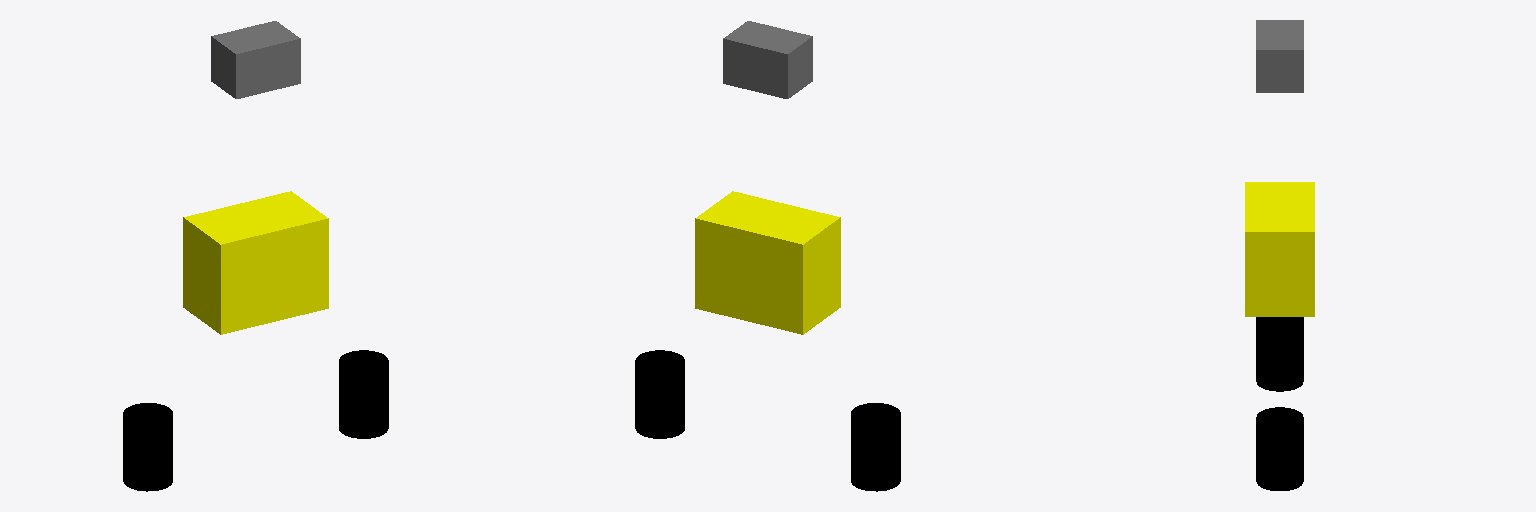
The robot description file, URDF, robot "wally":
<?xml version="1.0"?>
<robot name="wally">

  <!-- Body (Box-like structure) -->
  <link name="body">
    <inertial>
      <mass value="10.0"/>
      <origin xyz="0 0 0.3" rpy="0 0 0"/>
      <inertia ixx="1.0" iyy="1.0" izz="1.0" ixy="0.0" ixz="0.0" iyz="0.0"/>
    </inertial>
    <visual>
      <origin xyz="0 0 0.3" rpy="0 0 0"/>
      <geometry>
        <box size="0.5 0.3 0.4"/>
      </geometry>
      <material name="yellow">
        <color rgba="1 1 0 1"/>
      </material>
    </visual>
    <collision>
      <origin xyz="0 0 0.3" rpy="0 0 0"/>
      <geometry>
        <box size="0.5 0.3 0.4"/>
      </geometry>
    </collision>
  </link>

  <!-- Head -->
  <link name="head">
    <inertial>
      <mass value="2.0"/>
      <origin xyz="0 0 0.6" rpy="0 0 0"/>
      <inertia ixx="0.2" iyy="0.2" izz="0.2" ixy="0.0" ixz="0.0" iyz="0.0"/>
    </inertial>
    <visual>
      <origin xyz="0 0 0.6" rpy="0 0 0"/>
      <geometry>
        <box size="0.3 0.2 0.2"/>
      </geometry>
      <material name="grey">
        <color rgba="0.5 0.5 0.5 1"/>
      </material>
    </visual>
    <collision>
      <origin xyz="0 0 0.6" rpy="0 0 0"/>
      <geometry>
        <box size="0.3 0.2 0.2"/>
      </geometry>
    </collision>
  </link>

  <!-- Joint for head (yaw) -->
  <joint name="head_joint" type="revolute">
    <parent link="body"/>
    <child link="head"/>
    <origin xyz="0 0 0.6" rpy="0 0 0"/>
    <axis xyz="0 0 1"/>
    <limit lower="-1.57" upper="1.57" effort="10.0" velocity="1.0"/>
  </joint>

  <!-- Left Wheel (Track) -->
  <link name="left_wheel">
    <inertial>
      <mass value="5.0"/>
      <origin xyz="-0.25 0 -0.2" rpy="0 0 0"/>
      <inertia ixx="0.2" iyy="0.2" izz="0.2" ixy="0.0" ixz="0.0" iyz="0.0"/>
    </inertial>
    <visual>
      <origin xyz="-0.25 0 -0.2" rpy="0 0 0"/>
      <geometry>
        <cylinder radius="0.1" length="0.3"/>
      </geometry>
      <material name="black">
        <color rgba="0 0 0 1"/>
      </material>
    </visual>
    <collision>
      <origin xyz="-0.25 0 -0.2" rpy="0 0 0"/>
      <geometry>
        <cylinder radius="0.1" length="0.3"/>
      </geometry>
    </collision>
  </link>

  <!-- Right Wheel (Track) -->
  <link name="right_wheel">
    <inertial>
      <mass value="5.0"/>
      <origin xyz="0.25 0 -0.2" rpy="0 0 0"/>
      <inertia ixx="0.2" iyy="0.2" izz="0.2" ixy="0.0" ixz="0.0" iyz="0.0"/>
    </inertial>
    <visual>
      <origin xyz="0.25 0 -0.2" rpy="0 0 0"/>
      <geometry>
        <cylinder radius="0.1" length="0.3"/>
      </geometry>
      <material name="black">
        <color rgba="0 0 0 1"/>
      </material>
    </visual>
    <collision>
      <origin xyz="0.25 0 -0.2" rpy="0 0 0"/>
      <geometry>
        <cylinder radius="0.1" length="0.3"/>
      </geometry>
    </collision>
  </link>

  <!-- Joints for Wheels (Continuous rotation for movement) -->
  <joint name="left_wheel_joint" type="continuous">
    <parent link="body"/>
    <child link="left_wheel"/>
    <origin xyz="-0.25 0 -0.2" rpy="0 0 0"/>
    <axis xyz="0 1 0"/>
  </joint>

  <joint name="right_wheel_joint" type="continuous">
    <parent link="body"/>
    <child link="right_wheel"/>
    <origin xyz="0.25 0 -0.2" rpy="0 0 0"/>
    <axis xyz="0 1 0"/>
  </joint>

</robot>

--- What the picture shows (computed from the rendered views, not written in the file) ---
The picture shows the robot from 3 angles, left to right: view 1: azimuth 30°, elevation 25°; view 2: azimuth 150°, elevation 25°; view 3: azimuth 270°, elevation 25°; orthographic projection.
Robot: wally — 4 links, 3 joints (1 revolute, 2 continuous); root link body; default pose: all joints at 0.
Links seen in each view (by area): view 1: body, head, right_wheel, left_wheel; view 2: body, head, right_wheel, left_wheel; view 3: body, right_wheel, head, left_wheel.
Link boxes in pixels (<box>): body: <box>183,191,328,334</box>; head: <box>211,21,300,98</box>; right_wheel: <box>339,350,388,438</box>; left_wheel: <box>123,403,172,491</box>; body: <box>695,191,840,334</box>; head: <box>723,21,812,98</box>; right_wheel: <box>635,350,684,438</box>; left_wheel: <box>851,403,900,491</box>; body: <box>1245,182,1314,316</box>; right_wheel: <box>1256,407,1303,490</box>; head: <box>1256,20,1303,92</box>; left_wheel: <box>1256,317,1303,391</box>.
Bounding box of the posed robot: 1.2 × 0.3 × 1.85 m (x, y, z).
Geometry: primitives only (box / cylinder / sphere), no mesh files.